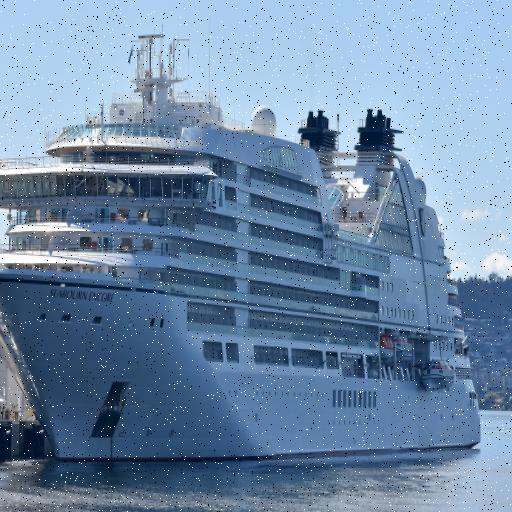cruises: (1, 27, 483, 473)
